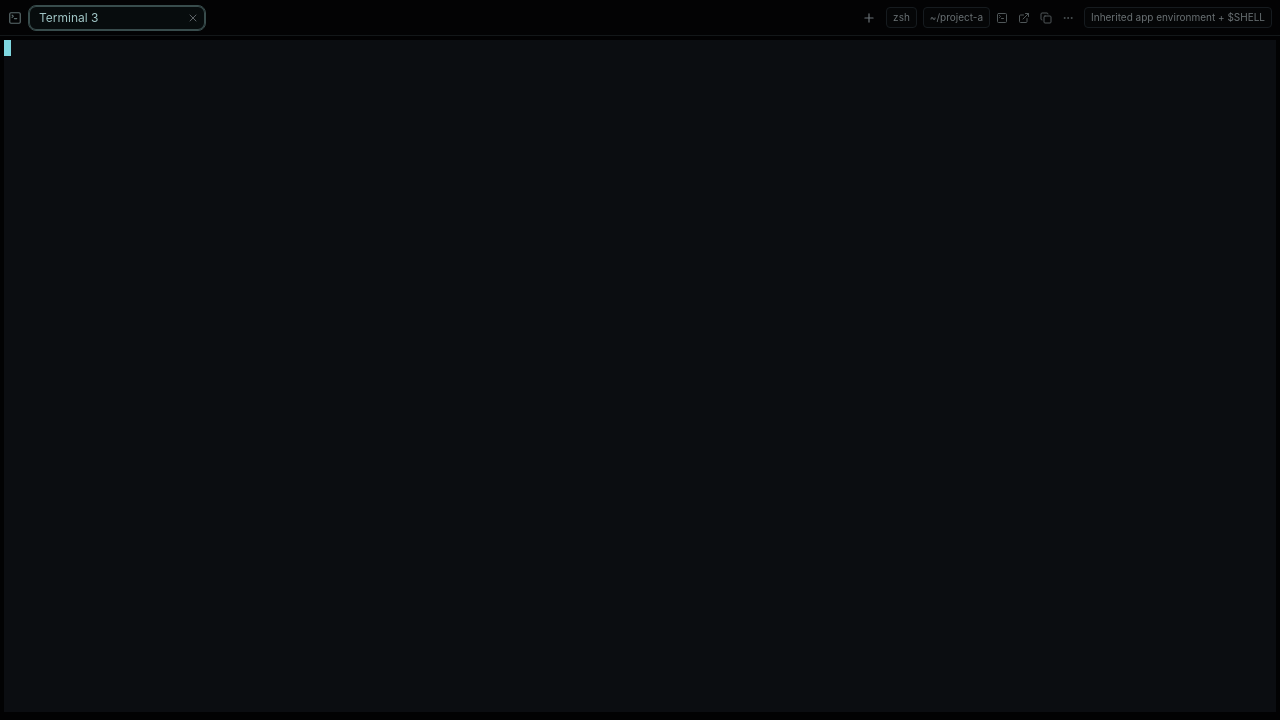
Scenario: shows recovery guidance when opening the terminal cwd in an external terminal fails
Click the button named "Open terminal cwd in external terminal" at (1002, 18), box left=992, top=8, right=1012, bottom=28
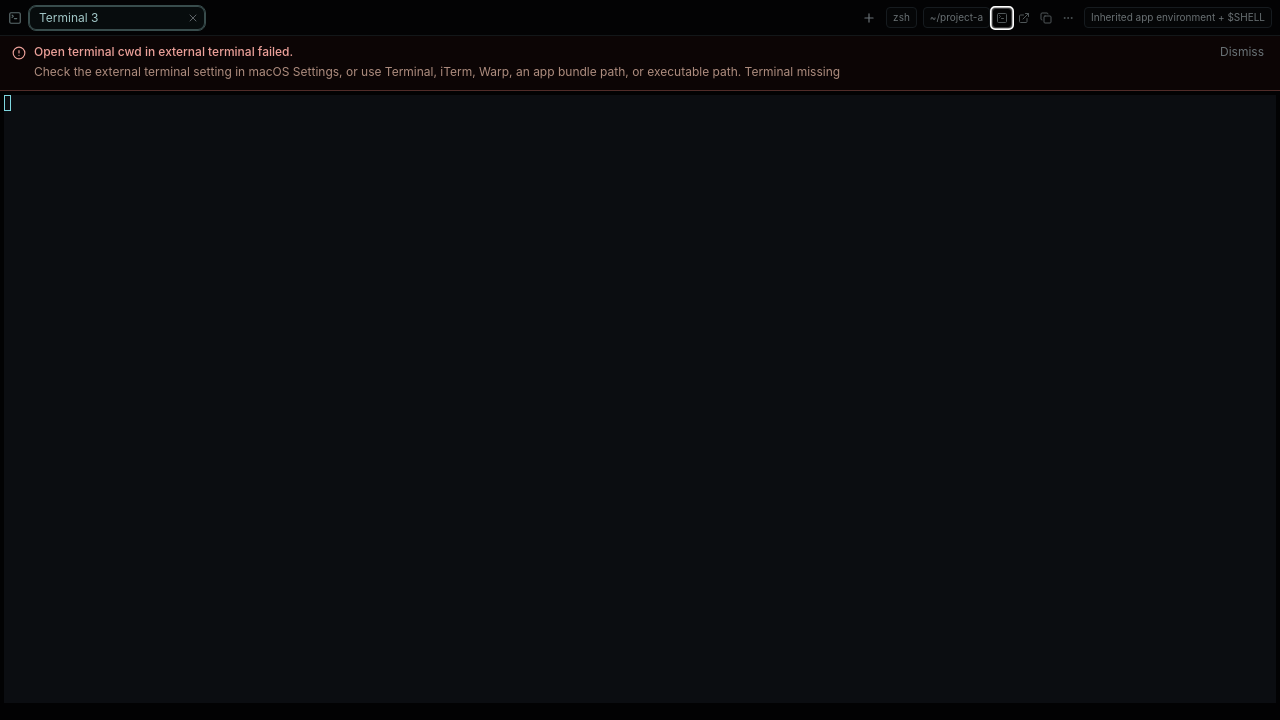
Expected: the text "Open terminal cwd in external terminal failed." is shown, left=34, top=44, right=293, bottom=59
Expected: the text "Terminal missing" is shown, left=34, top=64, right=840, bottom=79
